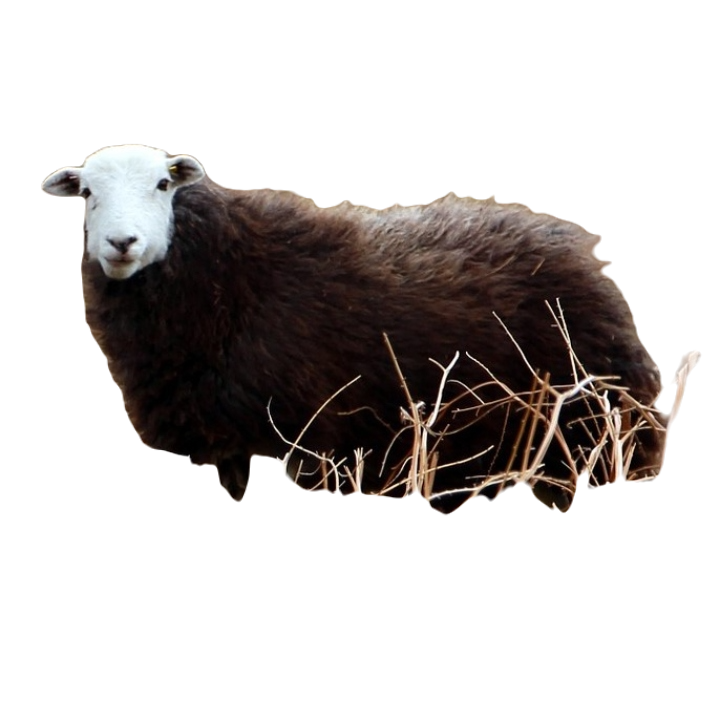Sheep: (37, 140, 666, 510)
